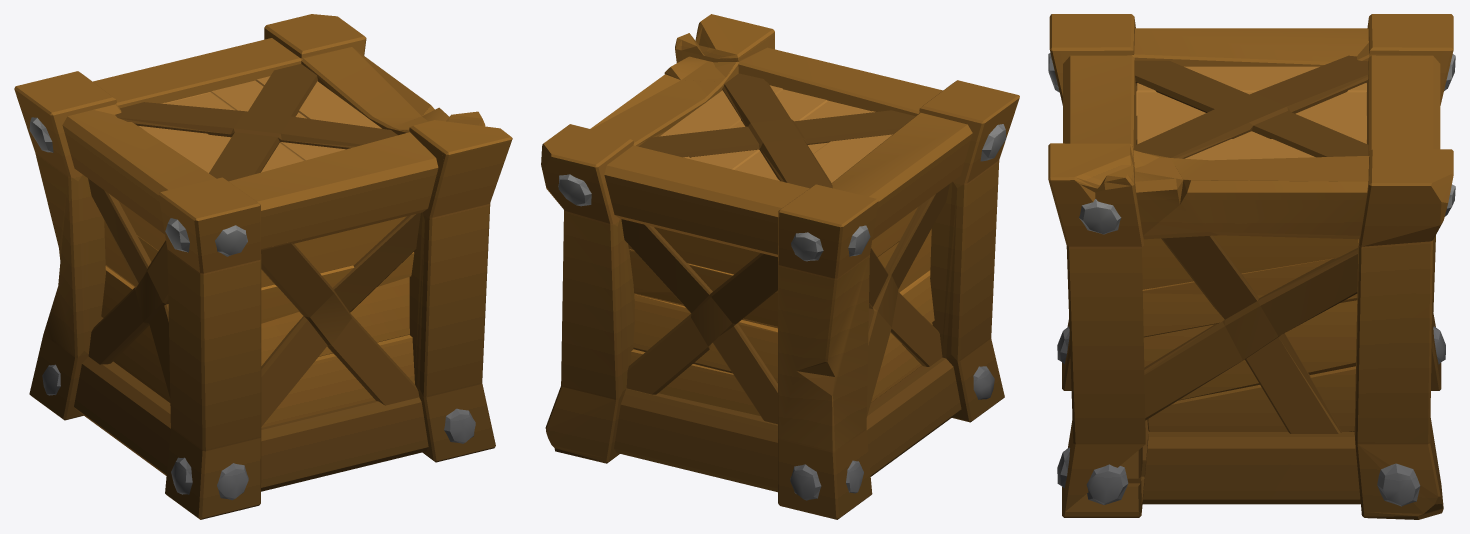
File: ENV_Crate_Frag.fbx
3 views of the same model, side by side, from view 1: azimuth 30°, elevation 25°; view 2: azimuth 150°, elevation 25°; view 3: azimuth 270°, elevation 25° (orthographic). The views are drawn at different scales.
Visible parts, largest first — view 1: shard24, shard25, shard3, shard10, shard1, shard4, shard6, shard9, shard22, shard23, shard21, shard14 (+1 smaller); view 2: shard24, shard5, shard8, shard1, shard4, shard6, shard25, shard9, shard17, shard16, shard15, shard14 (+1 smaller); view 3: shard24, shard25, shard7, shard2, shard1, shard6, shard20, shard19, shard18.
Boxes of the visible parts, bbox=[...] form: shard24: bbox=[14, 14, 443, 519]; shard25: bbox=[261, 105, 512, 487]; shard3: bbox=[261, 213, 420, 426]; shard10: bbox=[261, 216, 414, 427]; shard1: bbox=[115, 64, 397, 181]; shard4: bbox=[88, 178, 170, 397]; shard6: bbox=[138, 76, 381, 173]; shard9: bbox=[101, 201, 170, 402]; shard22: bbox=[217, 463, 248, 500]; shard23: bbox=[444, 408, 475, 443]; shard21: bbox=[215, 225, 247, 256]; shard14: bbox=[171, 457, 192, 494]; shard24: bbox=[541, 34, 1019, 519]; shard5: bbox=[621, 219, 777, 424]; shard8: bbox=[628, 227, 777, 415]; shard1: bbox=[638, 73, 915, 188]; shard4: bbox=[866, 184, 949, 417]; shard6: bbox=[659, 85, 892, 182]; shard25: bbox=[664, 14, 774, 81]; shard9: bbox=[871, 207, 934, 402]; shard17: bbox=[790, 464, 821, 500]; shard16: bbox=[558, 174, 591, 206]; shard15: bbox=[791, 232, 823, 261]; shard14: bbox=[973, 366, 994, 399]; shard24: bbox=[1049, 14, 1453, 519]; shard25: bbox=[1048, 143, 1190, 517]; shard7: bbox=[1142, 235, 1358, 431]; shard2: bbox=[1144, 235, 1358, 433]; shard1: bbox=[1135, 55, 1368, 158]; shard6: bbox=[1136, 66, 1366, 160]; shard20: bbox=[1377, 463, 1420, 506]; shard19: bbox=[1086, 464, 1128, 504]; shard18: bbox=[1079, 199, 1121, 234].
Bounding box in the file's own units: 124 × 115 × 123.
